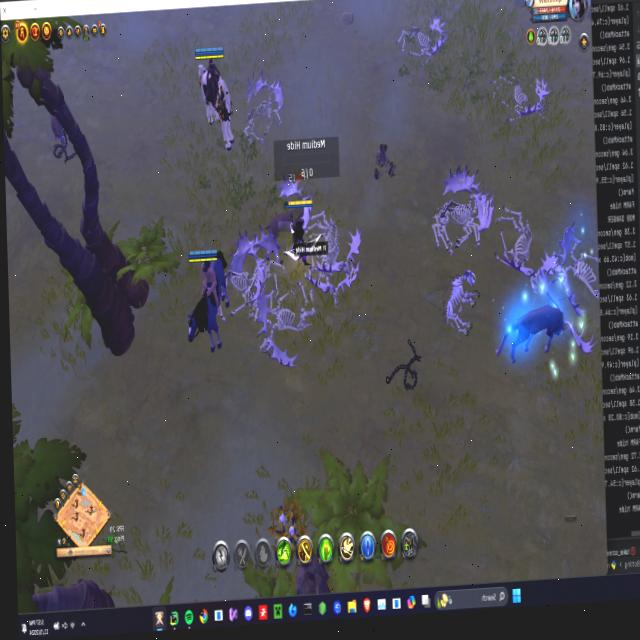hide: (269, 497, 303, 550)
mob: (264, 189, 314, 261)
ore: (489, 284, 579, 372), (49, 109, 66, 146)
red: (192, 40, 237, 157), (184, 245, 228, 342), (284, 195, 314, 265)
